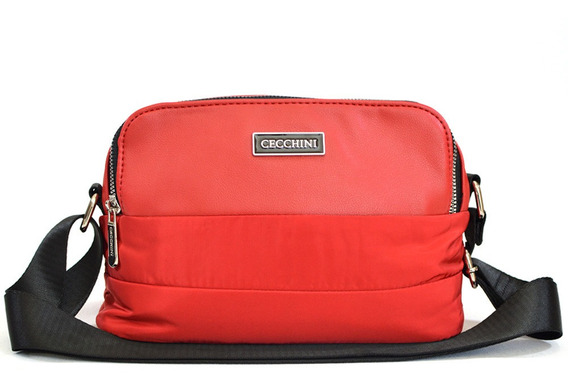cartera: (3, 91, 563, 362)
